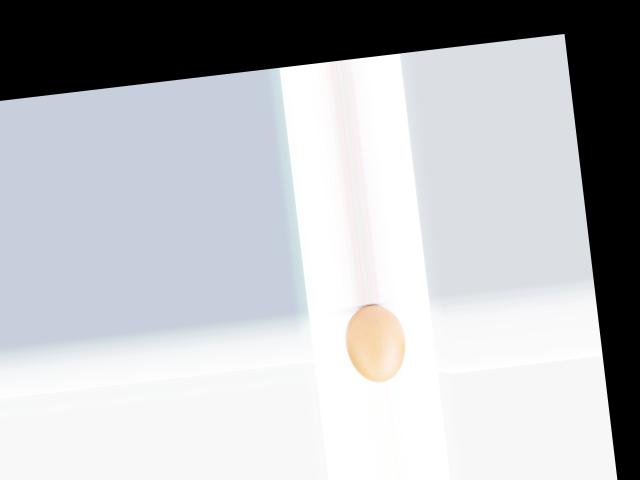egg: (341, 301, 409, 384)
